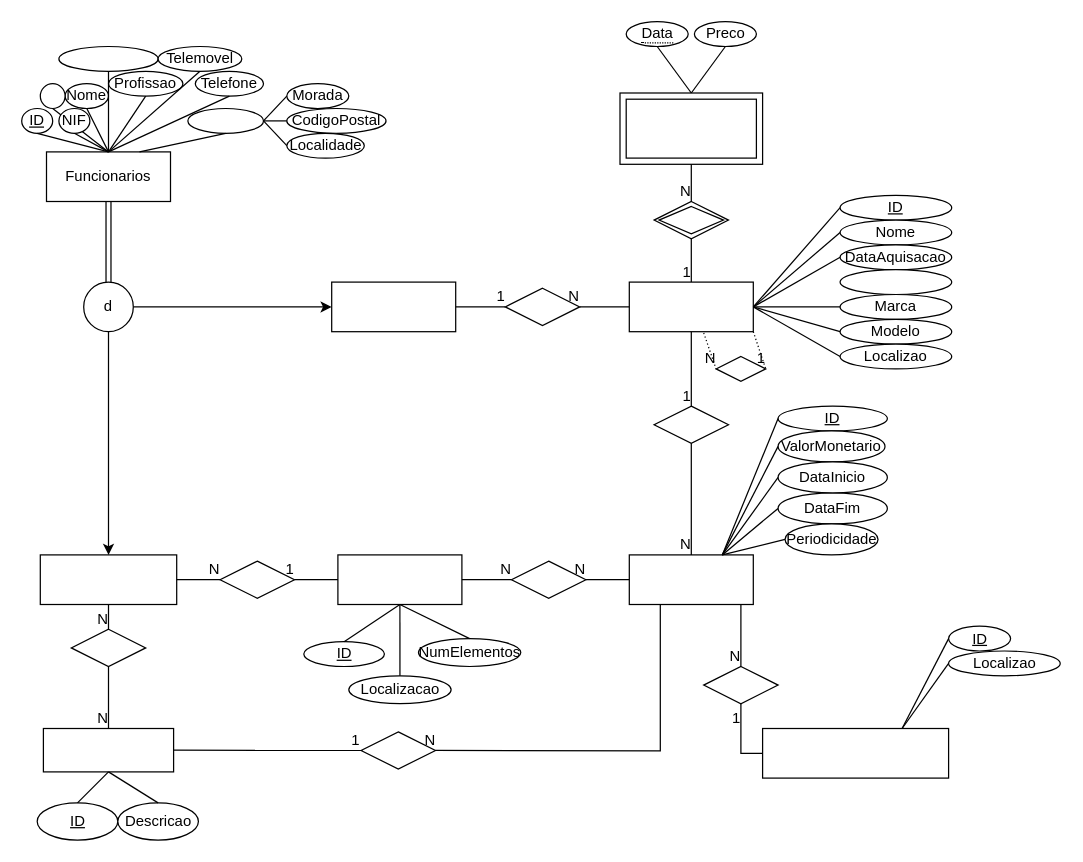
This 1083x862 diagram has some shape labels left out. The shapes that lost their labels are listed below. From the top down, each one's centre as x and y in pixels, then its label:
At [108,58]: "DtNascimento".
At [52,95]: "CC".
At [225,120]: "Endereço".
At [691,128]: "PrecosActivos".
At [895,281]: "Estado".
At [393,306]: "Gestores".
At [690,306]: "Activos".
At [108,579]: "MembrosEquipa".
At [399,579]: "Equipas".
At [690,579]: "Intervencoes".
At [108,749]: "Competencias".
At [855,752]: "EstadosIntervencoes".
